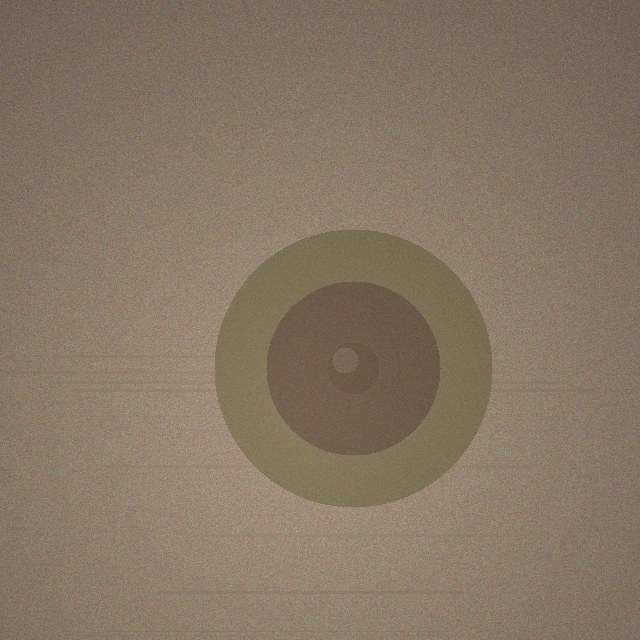good: (214, 229, 492, 507)
